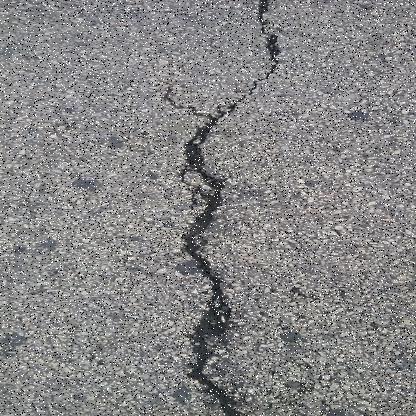Cracks: (160, 0, 295, 415)
